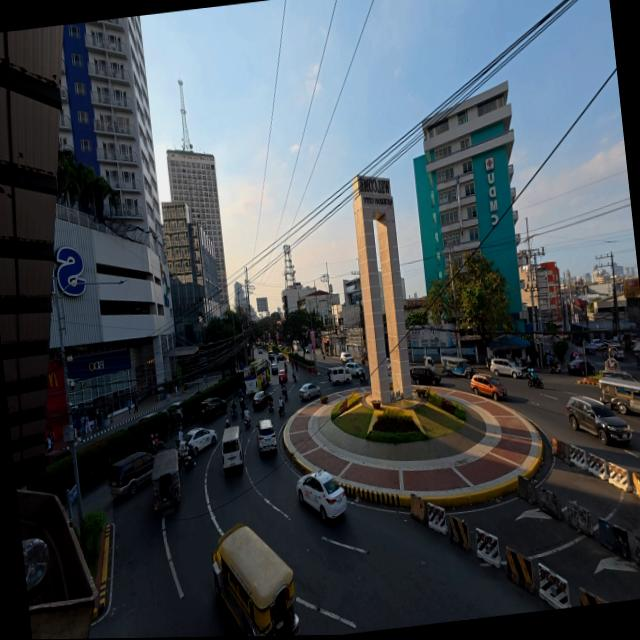Jeepneys: (212, 524, 298, 635), (151, 449, 180, 512), (598, 376, 639, 415), (441, 356, 474, 378)
bus: (243, 360, 270, 395), (291, 341, 300, 353)
car: (566, 396, 631, 445), (296, 470, 345, 520), (108, 453, 153, 495), (178, 428, 217, 457), (221, 426, 243, 473), (470, 375, 506, 401), (255, 417, 278, 454), (489, 358, 523, 378), (410, 366, 440, 386), (200, 398, 226, 420), (567, 359, 594, 376), (602, 370, 636, 382), (45, 449, 70, 465), (298, 383, 320, 401), (345, 361, 364, 377), (135, 410, 159, 422), (252, 391, 266, 409), (164, 401, 182, 411), (583, 342, 597, 353), (340, 352, 352, 363), (591, 339, 603, 349), (278, 371, 286, 384), (267, 351, 274, 363), (270, 363, 277, 374), (275, 353, 284, 361), (305, 346, 311, 353), (257, 347, 263, 354)
motorcycle: (148, 440, 164, 456), (183, 447, 195, 467), (527, 374, 543, 388), (549, 364, 560, 374), (358, 372, 366, 385), (281, 387, 288, 401), (243, 417, 250, 429), (230, 407, 236, 419), (239, 399, 245, 411), (277, 406, 283, 416), (267, 401, 272, 413), (292, 372, 295, 383)
vans: (327, 367, 350, 385), (608, 344, 623, 360)
